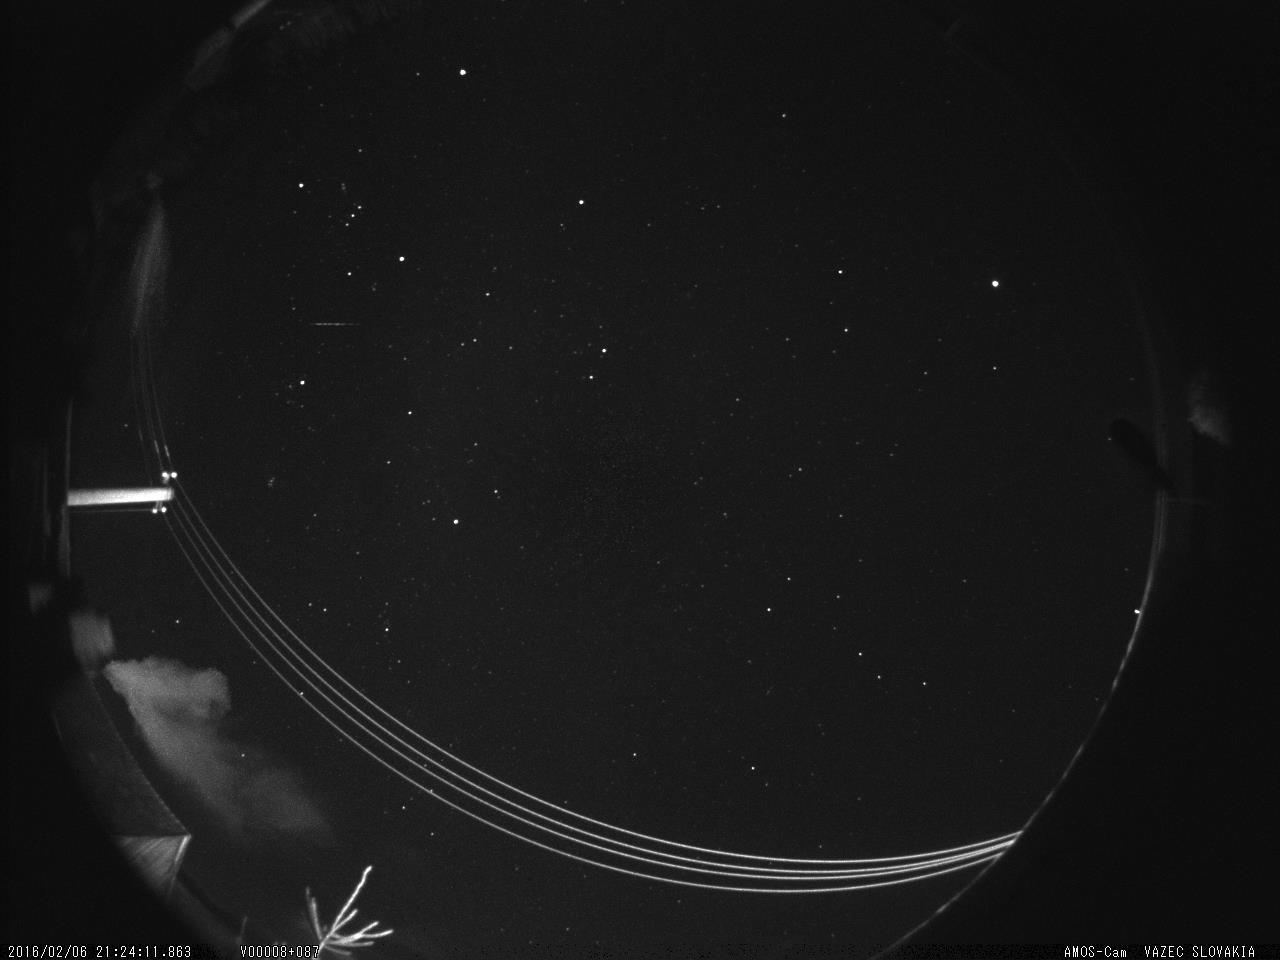Meteor: (307, 309, 367, 335)
